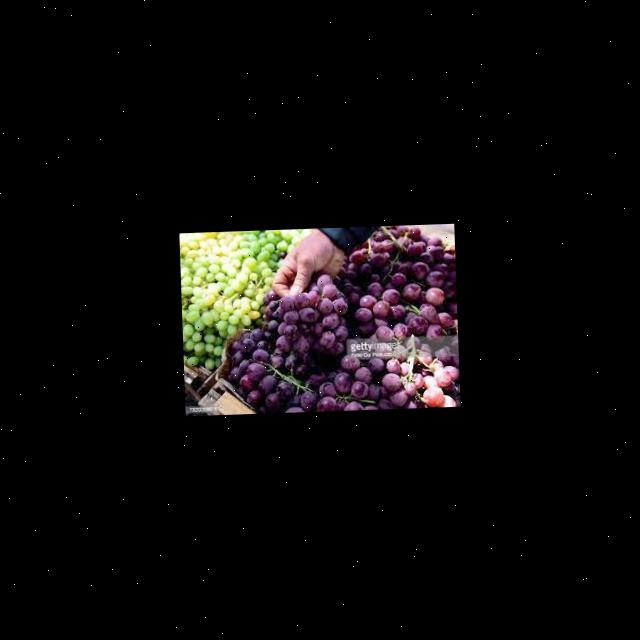grape: (222, 224, 460, 414)
